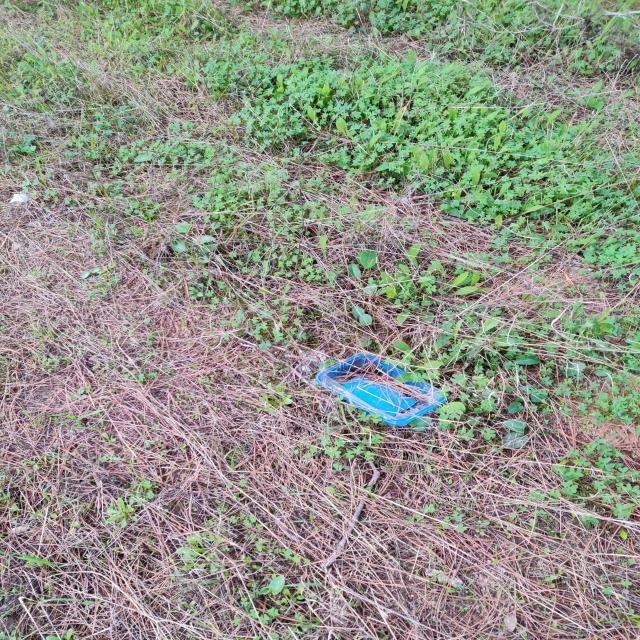litter: (311, 340, 463, 440)
